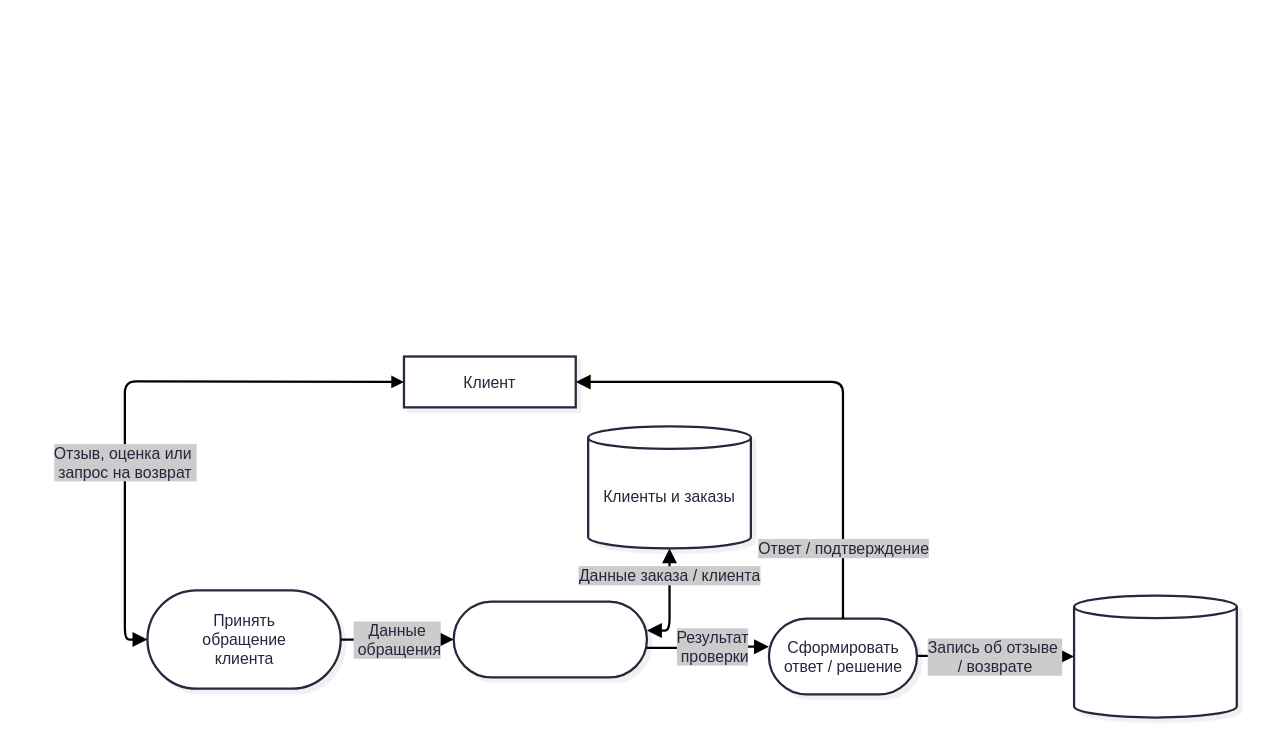
This 1261x742 diagram has some shape labels left out. The shapes that lost their labels are listed below. From the top down, each one's centre as x and y in pixels, then its label:
the point at 552,641: Проверить данные заказа
the point at 1157,658: Журнал отзывов и возвратов
